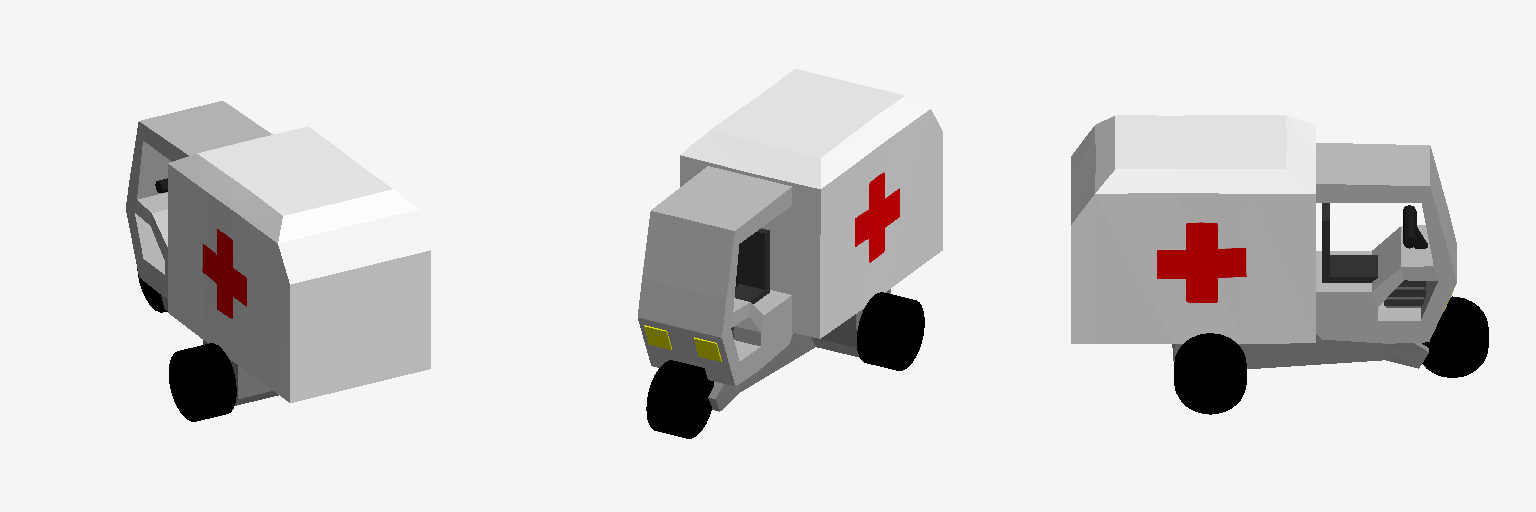
The picture shows the model from 3 angles: view 1: azimuth 30°, elevation 25°; view 2: azimuth 150°, elevation 25°; view 3: azimuth 270°, elevation 25°; orthographic projection.
Parts seen in each view (by area): view 1: Backshellmaterial0011, Frontshellmaterial0031, Sidewheel1; view 2: Backshellmaterial0011, Frontshellmaterial0031, Sidewheel1, Frontwheel1, Seatmaterial0021; view 3: Backshellmaterial0011, Frontshellmaterial0031, Sidewheel21, Frontwheel1, Seatmaterial0021, Enginethingmaterial0051, Handbrakematerial0041.
Boxes of the visible parts, x1,y1,x2,y2 form: Backshellmaterial0011: [161, 126, 430, 405]; Frontshellmaterial0031: [126, 101, 272, 298]; Sidewheel1: [169, 343, 236, 421]; Backshellmaterial0011: [680, 69, 942, 411]; Frontshellmaterial0031: [638, 166, 792, 386]; Sidewheel1: [857, 292, 924, 370]; Frontwheel1: [646, 360, 713, 438]; Seatmaterial0021: [735, 228, 769, 303]; Backshellmaterial0011: [1071, 115, 1428, 368]; Frontshellmaterial0031: [1316, 143, 1456, 343]; Sidewheel21: [1174, 333, 1246, 414]; Frontwheel1: [1422, 296, 1488, 377]; Seatmaterial0021: [1322, 203, 1377, 282]; Enginethingmaterial0051: [1384, 280, 1425, 307]; Handbrakematerial0041: [1403, 205, 1427, 248].
Size of the model in its own units: 9.17 by 9.61 by 15.98.
Materials: 7 (5 with a texture image).